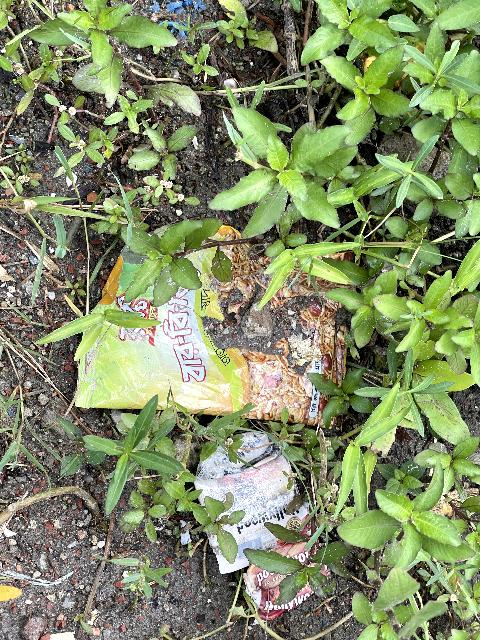packet: (80, 207, 396, 441)
